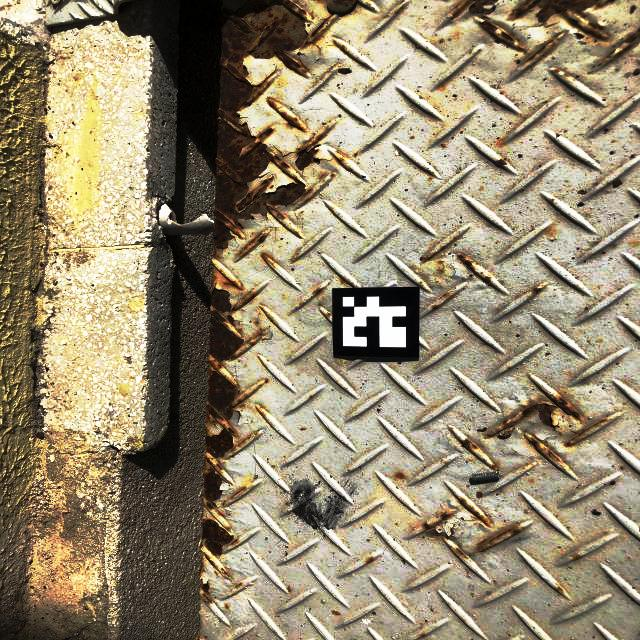Corrosion: (211, 0, 333, 261), (206, 265, 266, 428), (510, 0, 618, 41), (273, 125, 350, 176), (202, 427, 234, 519), (485, 401, 562, 438), (200, 518, 236, 578), (478, 16, 529, 55), (596, 26, 640, 67), (470, 523, 525, 553), (522, 431, 566, 466), (267, 98, 307, 132), (565, 418, 607, 447), (421, 511, 458, 542), (544, 392, 581, 420), (458, 498, 494, 525), (451, 0, 500, 17), (238, 232, 269, 258), (523, 39, 554, 65), (311, 67, 333, 88), (228, 436, 252, 452), (200, 578, 214, 604), (259, 252, 279, 268), (460, 437, 479, 451), (332, 0, 356, 11), (325, 39, 346, 51), (230, 486, 247, 499), (463, 258, 477, 273), (261, 306, 274, 322), (339, 275, 355, 287), (455, 547, 469, 560), (419, 252, 436, 262), (553, 583, 565, 593), (256, 406, 265, 419), (494, 159, 508, 167), (227, 538, 239, 547), (570, 553, 583, 561), (221, 567, 230, 578), (496, 137, 507, 146), (531, 287, 543, 295), (294, 230, 304, 239), (483, 276, 493, 284), (436, 265, 446, 273), (439, 292, 450, 299), (394, 473, 405, 480), (255, 313, 261, 325), (313, 288, 323, 295), (440, 244, 450, 251), (313, 0, 327, 4), (228, 426, 235, 434), (367, 557, 375, 564), (490, 462, 497, 470), (319, 173, 326, 179), (235, 582, 242, 588), (333, 610, 340, 616), (419, 634, 429, 638), (431, 305, 439, 310), (457, 254, 465, 259), (549, 198, 555, 204), (310, 13, 315, 20), (457, 517, 465, 521), (214, 571, 219, 577), (225, 604, 230, 610), (198, 634, 203, 640), (563, 73, 570, 77), (232, 591, 238, 595), (554, 69, 560, 73), (354, 152, 358, 157), (326, 312, 331, 316), (265, 378, 268, 384), (439, 260, 445, 263), (429, 172, 435, 175), (222, 501, 225, 506), (499, 92, 504, 95), (331, 174, 335, 177), (309, 396, 313, 399), (435, 280, 439, 283), (255, 432, 258, 435), (228, 526, 230, 530), (200, 624, 201, 631), (204, 636, 207, 638)
